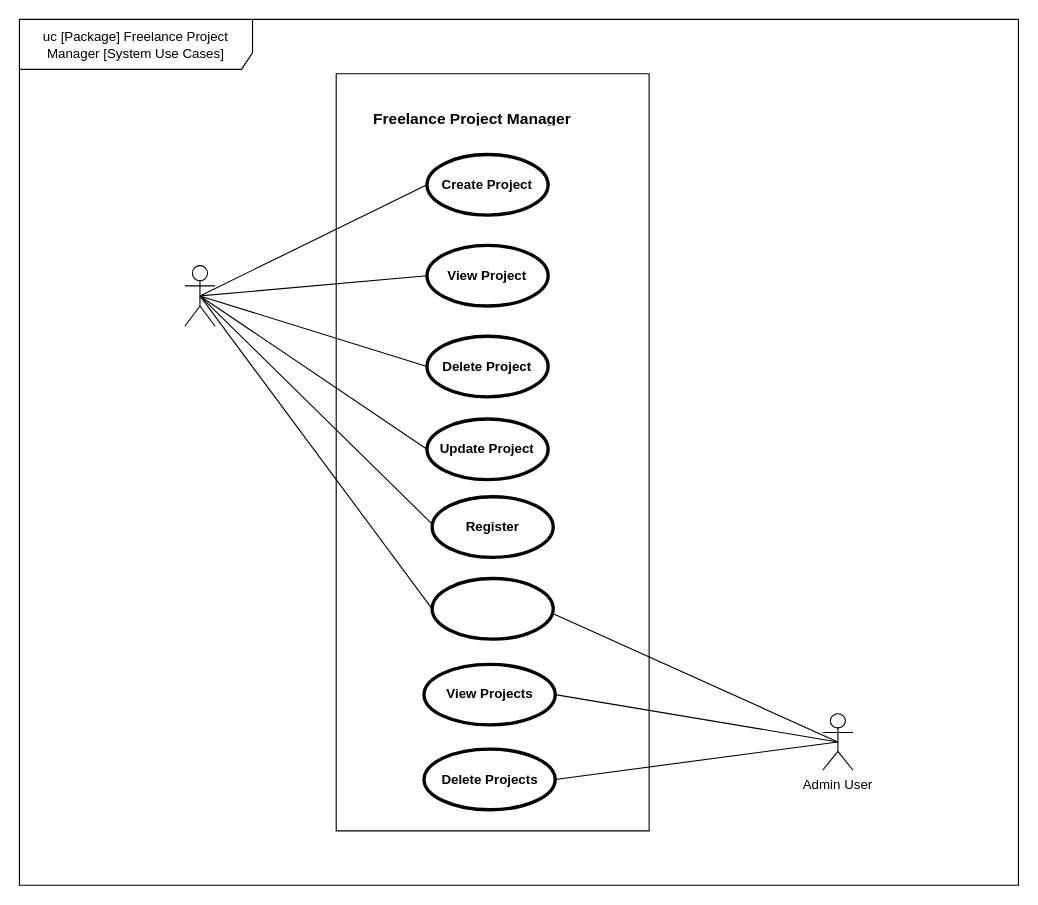
This 1038x905 diagram has some shape labels left out. The centre of each missing label's shape, as x and y in pixels:
"Login" goes at (x=492, y=608).
"Users of Freelance Project Manager" goes at (x=199, y=295).
